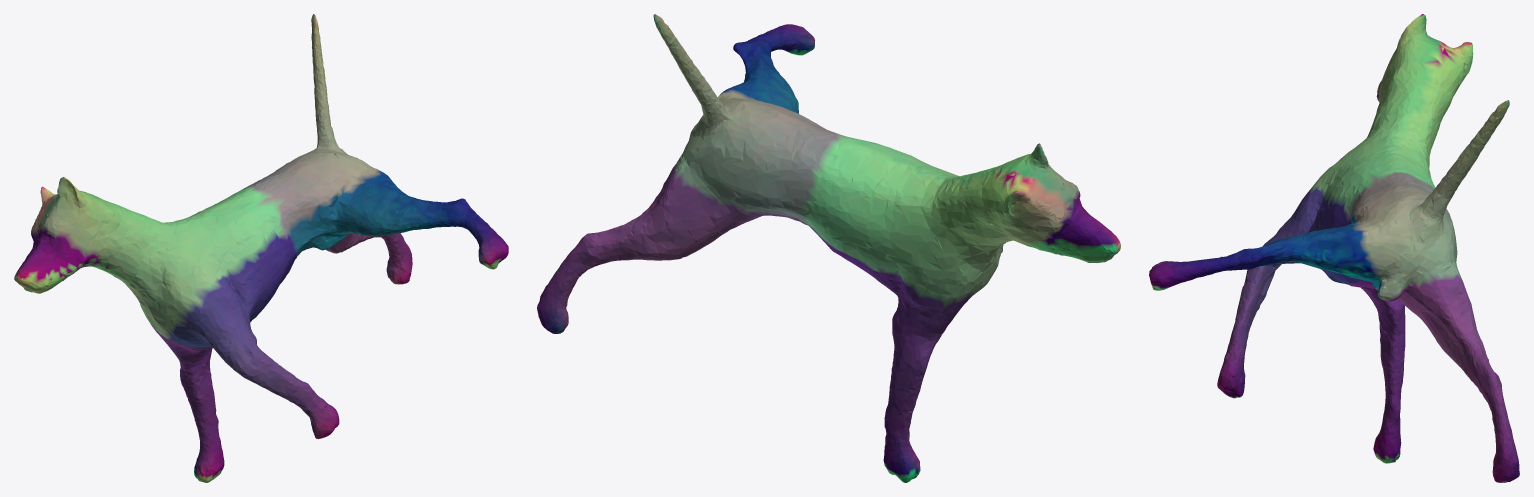
Rendered from dog2-5.off.obj.
3 renders of one model, left to right at view 1: azimuth 30°, elevation 25°; view 2: azimuth 150°, elevation 25°; view 3: azimuth 270°, elevation 25°, orthographic. The views are drawn at different scales.
Size of the model in its own units: 1.56 by 1.31 by 0.978.
